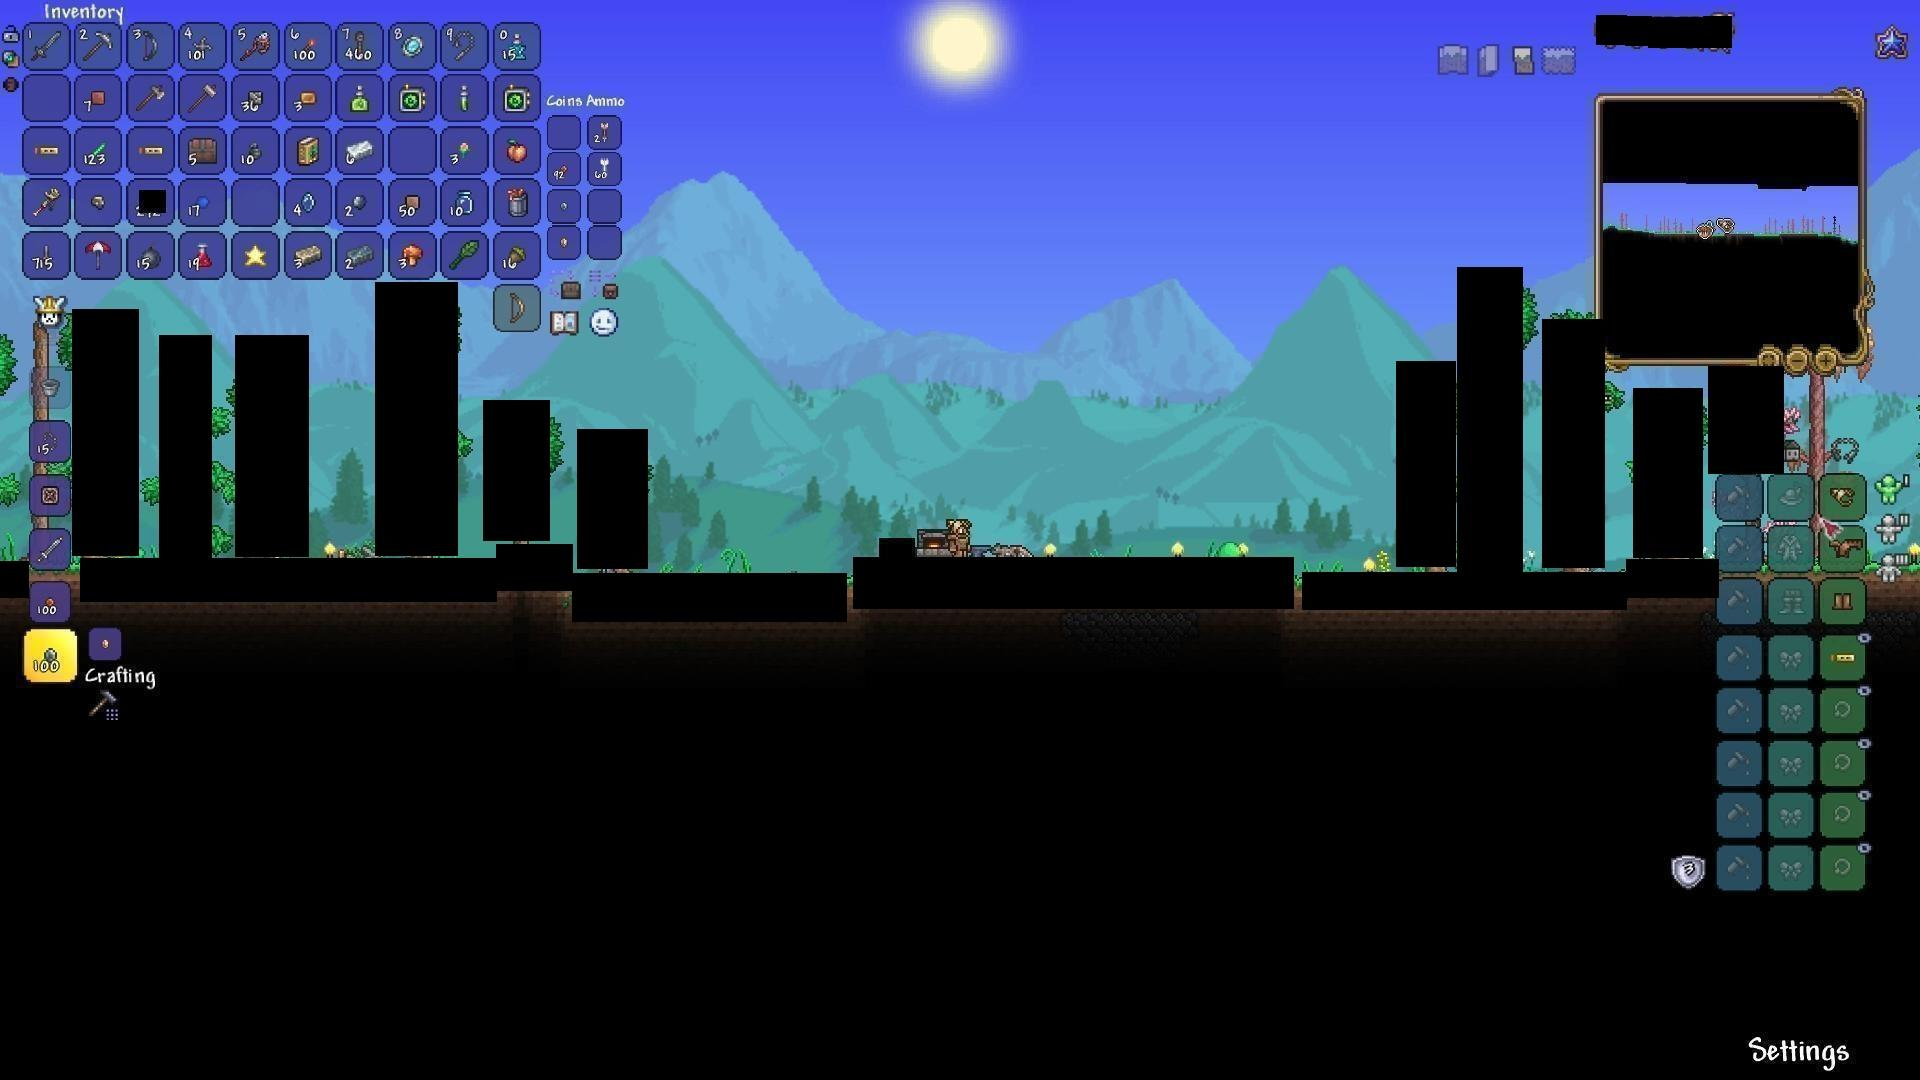helmet: (1838, 535, 1870, 559)
legs: (1830, 589, 1857, 615)
slime: (1218, 541, 1244, 566)
